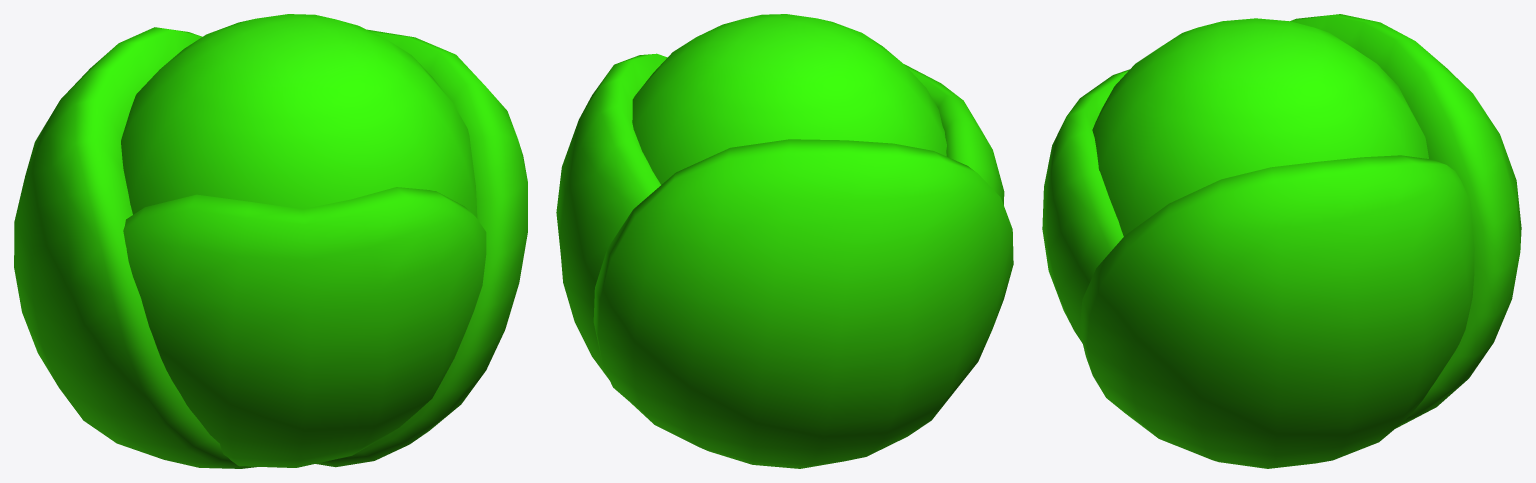
The model's file is Farm_Crop_Cabbage_01.fbx.
3 views of the same model, side by side, from view 1: azimuth 30°, elevation 25°; view 2: azimuth 150°, elevation 25°; view 3: azimuth 270°, elevation 25° (orthographic). The views are drawn at different scales.
Visible parts, largest first — view 1: Farm_Crop_Cabbage_01; view 2: Farm_Crop_Cabbage_01; view 3: Farm_Crop_Cabbage_01.
Boxes of the visible parts, x1,y1,x2,y2 form: Farm_Crop_Cabbage_01: (14,14,527,468); Farm_Crop_Cabbage_01: (556,14,1013,468); Farm_Crop_Cabbage_01: (1042,14,1521,468).
Bounding box in the file's own units: 65.57 × 59.13 × 64.67.
